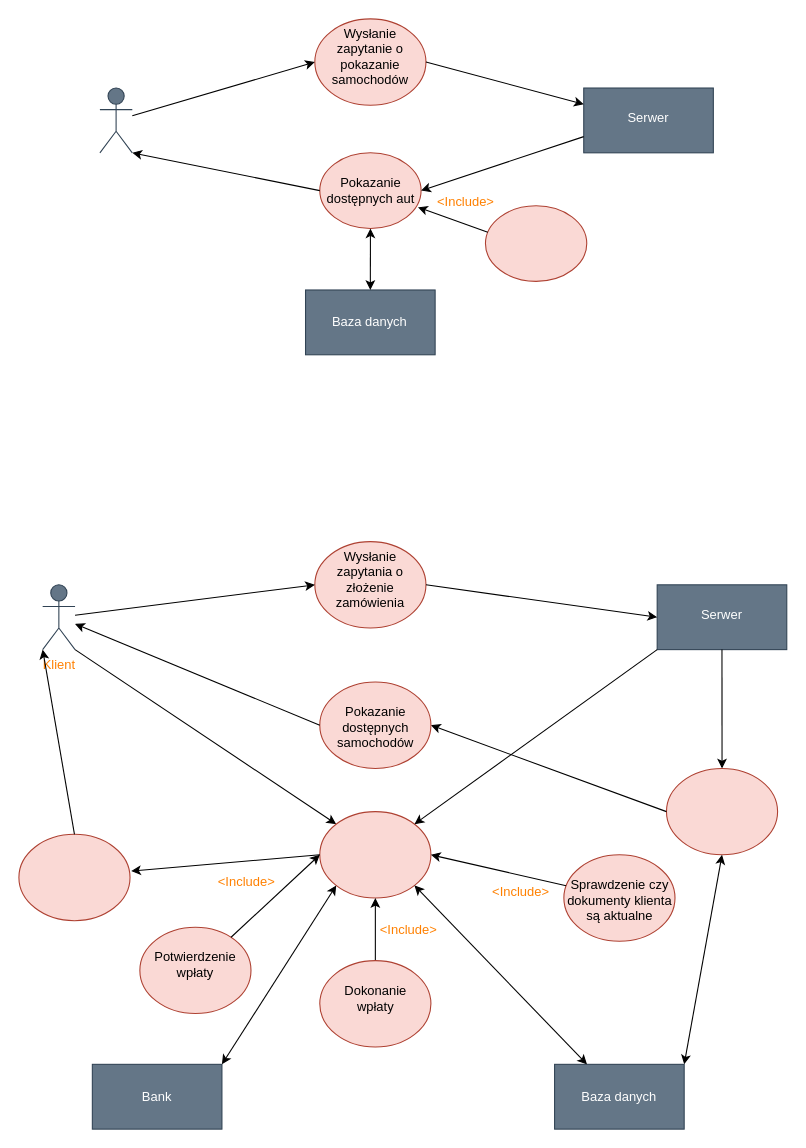
Some shapes in this 806 by 1148 pixel diagram are drawn without their labels. The centre of each missing label's shape, as x and y in pixels:
"Przekazanie klientowi dostęp do samochodu" belongs at [74,877].
"Wybranie samochodu" belongs at [375,854].
"Wyszukanie dostępnych samochodów w okolicy" belongs at [721,811].
"Wyszukiwanie dostępnych samochodów w okolicy" belongs at [535,243].
